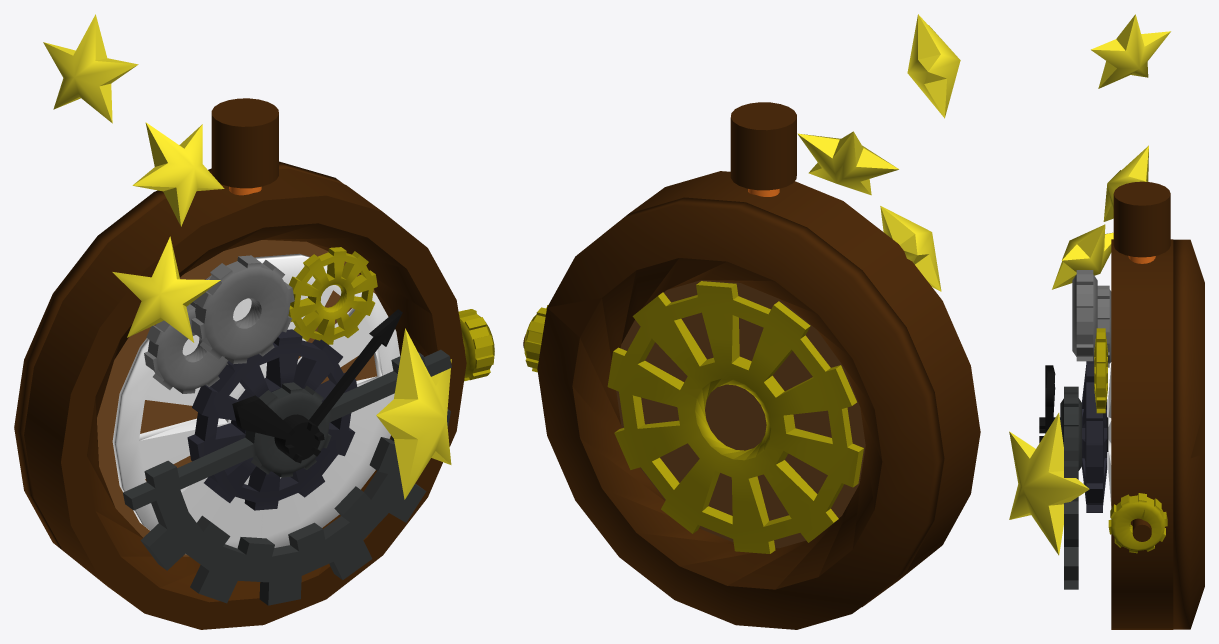
File: item_muteki.obj
3 renders of one model, left to right at view 1: azimuth 30°, elevation 25°; view 2: azimuth 150°, elevation 25°; view 3: azimuth 270°, elevation 25°, orthographic. The views are drawn at different scales.
Parts seen in each view (by area): view 1: item_invincible:pCylinder6, item_invincible:pCylinder5, item_invincible:pCylinder4, item_invincible:pCylinder3, item_invincible:pCylinder2, item_invincible:pCylinder1, item_invincible:pCylinder9, item_invincible:pCylinder10, item_invincible:pCylinder14, item_invincible:pCylinder15, item_invincible:pCylinder7, item_invincible:pCylinder19 (+4 smaller); view 2: item_invincible:pCylinder15, item_invincible:pCylinder17, item_invincible:pCylinder6, item_invincible:pCylinder1, item_invincible:pCylinder14, item_invincible:pCylinder18, item_invincible:pCylinder19, item_invincible:pCylinder13, item_invincible:pCylinder11; view 3: item_invincible:pCylinder6, item_invincible:pCylinder15, item_invincible:pCylinder9, item_invincible:pCylinder14, item_invincible:pCylinder5, item_invincible:pCylinder3, item_invincible:pCylinder19, item_invincible:pCylinder11, item_invincible:pCylinder2, item_invincible:pCylinder13, item_invincible:pCylinder18, item_invincible:pCylinder10 (+4 smaller).
Boxes of the visible parts, x1,y1,x2,y2 form: item_invincible:pCylinder6: (24, 168, 466, 629); item_invincible:pCylinder5: (123, 349, 451, 605); item_invincible:pCylinder4: (112, 253, 399, 554); item_invincible:pCylinder3: (187, 329, 357, 510); item_invincible:pCylinder2: (191, 255, 294, 364); item_invincible:pCylinder1: (97, 240, 376, 556); item_invincible:pCylinder9: (376, 328, 451, 499); item_invincible:pCylinder10: (288, 247, 377, 344); item_invincible:pCylinder14: (211, 98, 278, 188); item_invincible:pCylinder15: (14, 161, 343, 550); item_invincible:pCylinder7: (232, 309, 402, 463); item_invincible:pCylinder19: (43, 14, 138, 123); item_invincible:pCylinder15: (537, 198, 943, 629); item_invincible:pCylinder17: (607, 281, 863, 553); item_invincible:pCylinder6: (622, 171, 980, 606); item_invincible:pCylinder1: (616, 280, 865, 548); item_invincible:pCylinder14: (730, 102, 796, 190); item_invincible:pCylinder18: (797, 131, 899, 195); item_invincible:pCylinder19: (907, 14, 960, 118); item_invincible:pCylinder13: (880, 206, 941, 291); item_invincible:pCylinder11: (524, 305, 548, 372); item_invincible:pCylinder6: (1111, 239, 1173, 629); item_invincible:pCylinder15: (1173, 239, 1204, 629); item_invincible:pCylinder9: (1009, 413, 1089, 555); item_invincible:pCylinder14: (1113, 181, 1170, 257); item_invincible:pCylinder5: (1060, 386, 1081, 589); item_invincible:pCylinder3: (1082, 356, 1107, 512); item_invincible:pCylinder19: (1091, 14, 1170, 88); item_invincible:pCylinder11: (1108, 493, 1167, 553); item_invincible:pCylinder2: (1072, 270, 1097, 361); item_invincible:pCylinder13: (1052, 224, 1113, 289); item_invincible:pCylinder18: (1103, 145, 1148, 221); item_invincible:pCylinder10: (1094, 328, 1107, 413).
Bounding box in the file's own units: 3.53 × 4.86 × 1.61.
